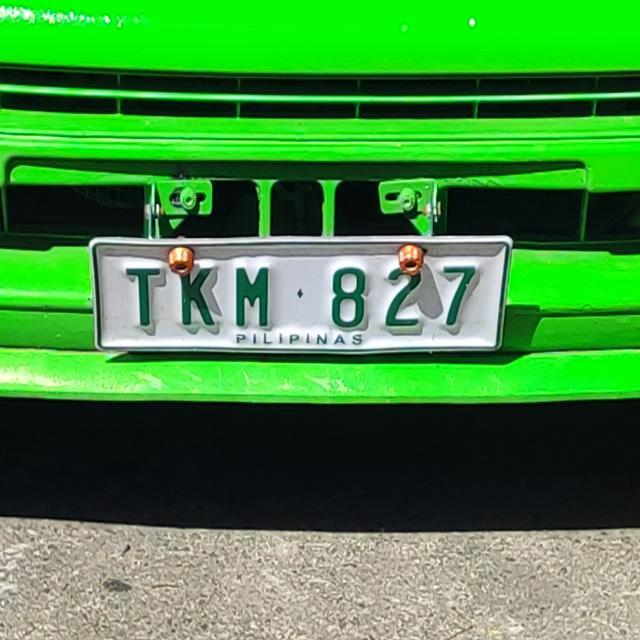LicensePlate: (83, 226, 522, 381)
